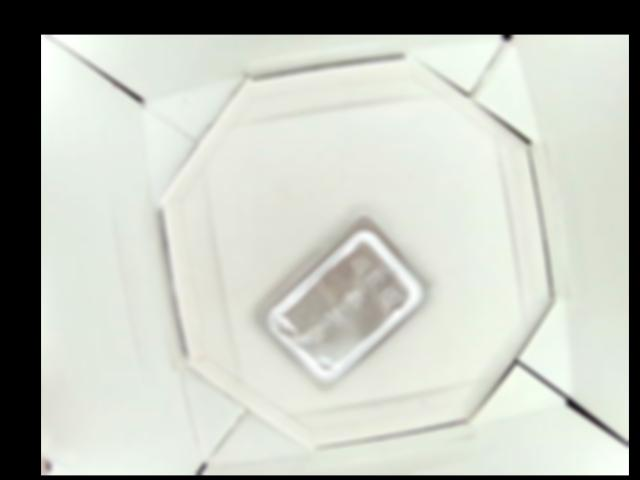Medicine: (262, 215, 430, 390)
